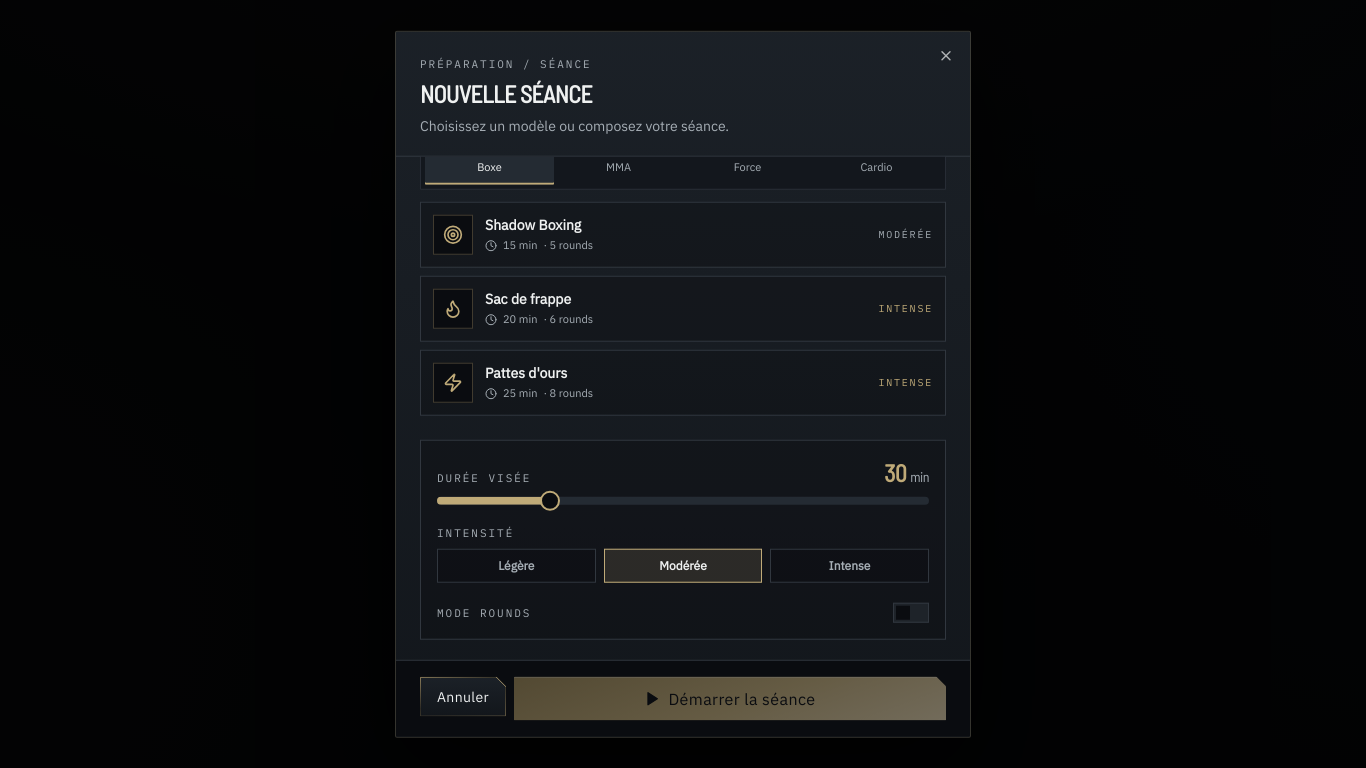
Test: StartWorkoutDialogV2 - Workout Configuration › should render rest time configuration
(page scrolled)
Click the button "Mode rounds" at (484, 612), box [437,602,929,622]
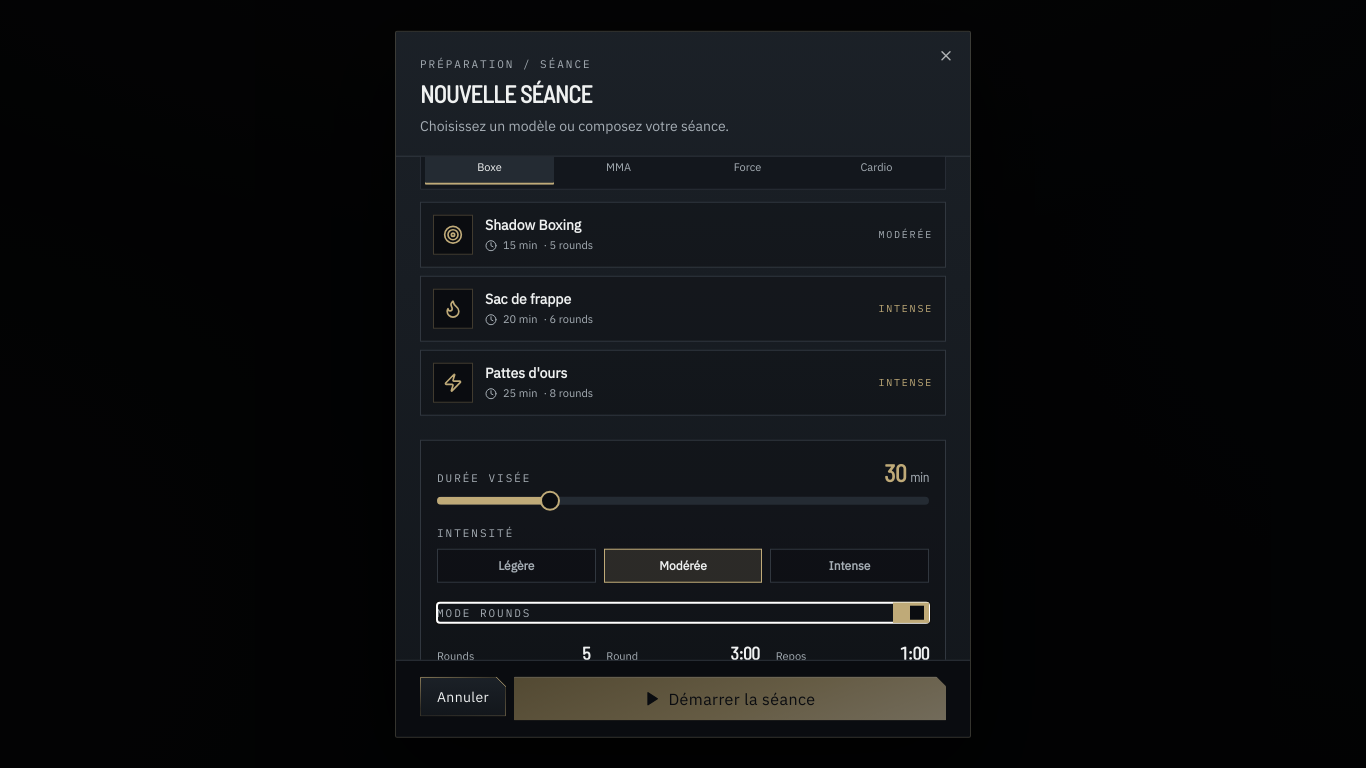
Check: the text "Repos" is shown, box [776,647,806,659]
